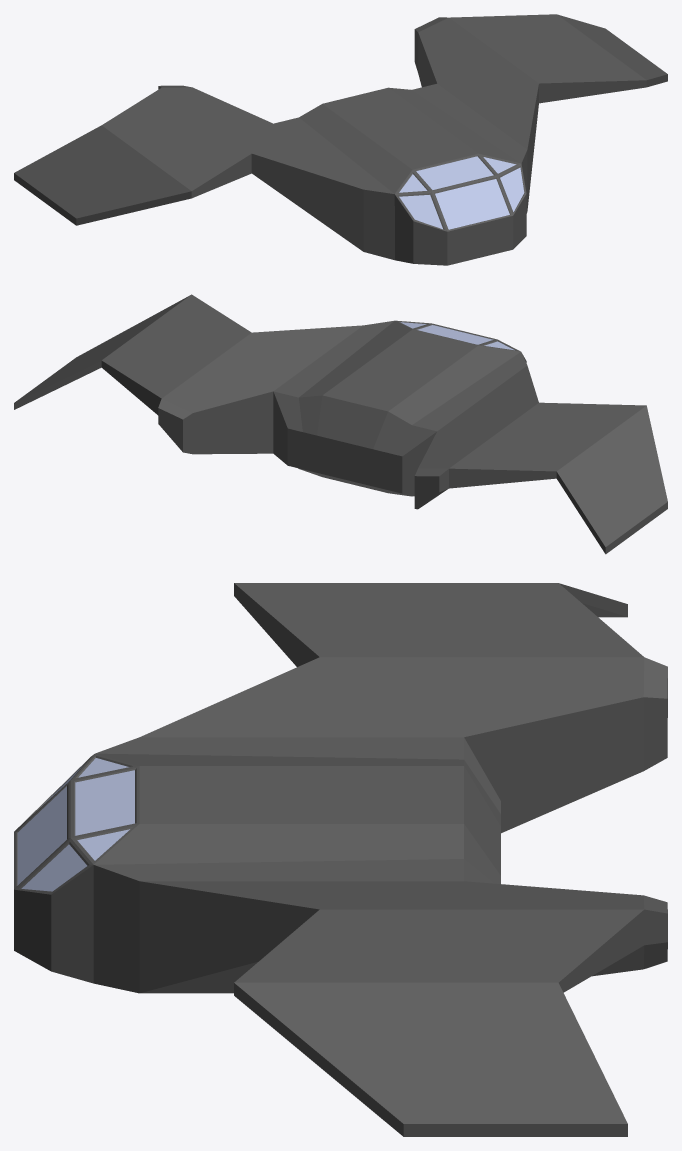
File: spaceship.glb
The picture shows the model from 3 angles, top to bottom: view 1: azimuth 30°, elevation 25°; view 2: azimuth 150°, elevation 25°; view 3: azimuth 270°, elevation 25°; orthographic projection. The views are drawn at different scales.
Visible parts, largest first — view 1: Spaceship; view 2: Spaceship; view 3: Spaceship.
Part boxes in pixels (x1,y1,x2,y2): Spaceship: (14, 14, 667, 265); Spaceship: (14, 294, 667, 554); Spaceship: (14, 583, 667, 1136).
Size of the model in its own units: 57.08 by 8.16 by 30.35.
